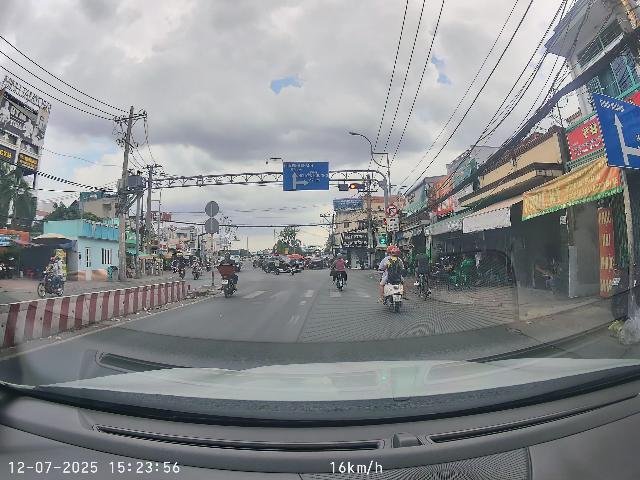123b-cam-re-phai: (385, 204, 398, 216)
